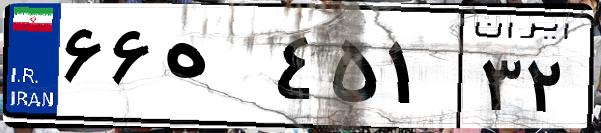1: (385, 28, 445, 110)
2: (525, 38, 570, 115)
3: (475, 38, 525, 113)
4: (270, 28, 330, 110)
5: (330, 28, 385, 110)
6: (57, 26, 110, 100), (110, 28, 158, 98)
ه: (158, 20, 270, 120)
